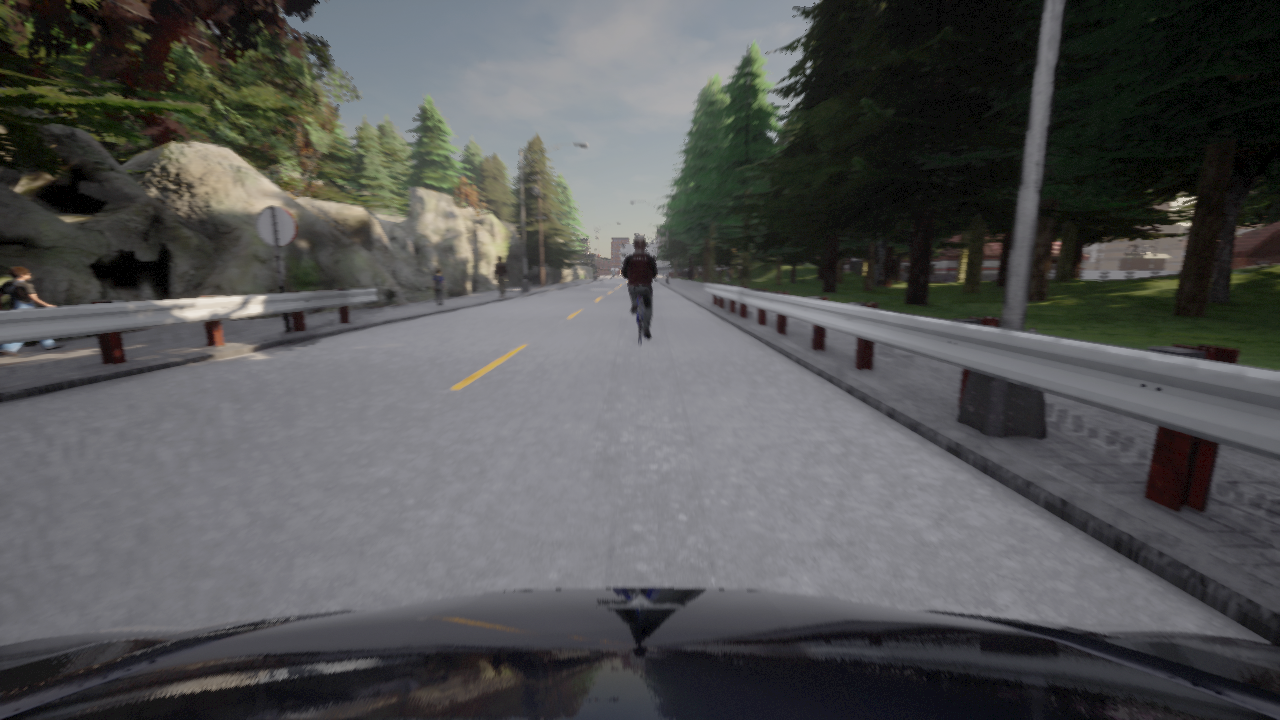cyclist: (0, 588, 1279, 719), (632, 296, 649, 344)
pedestrian: (0, 266, 64, 355), (494, 257, 507, 297), (432, 269, 445, 306)
